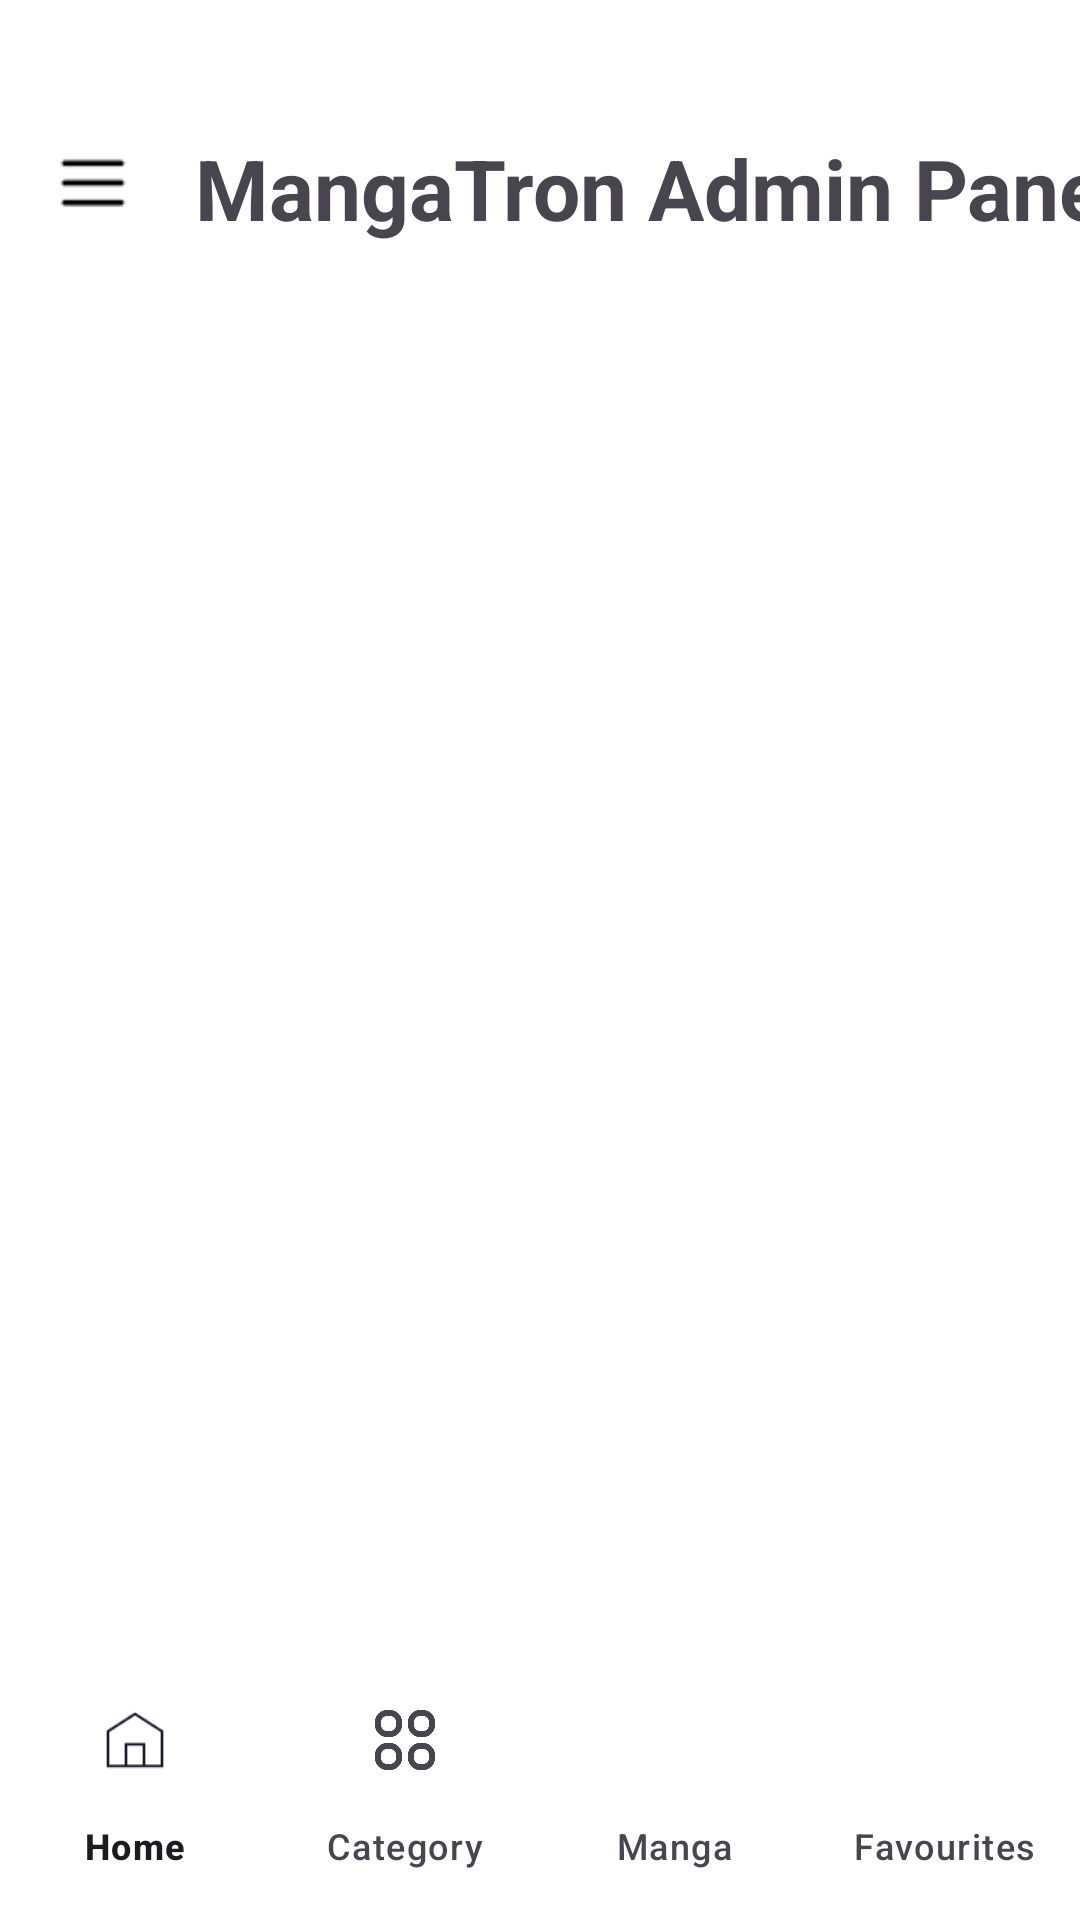

Where icons sit on this 1080*1920 app screen, as Rect(x1, y1, x2, y2):
hamburger: Rect(60, 159, 126, 207)
